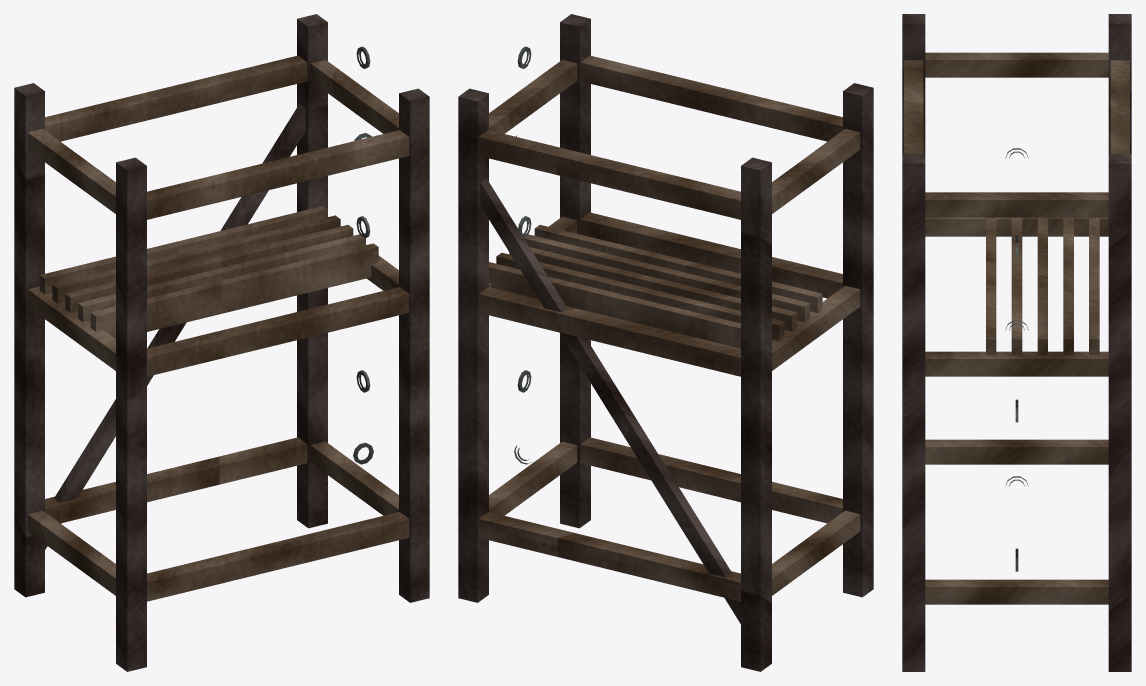
File: 0427_scaffolding_02.glb
The picture shows the model from 3 angles, left to right: view 1: azimuth 30°, elevation 25°; view 2: azimuth 150°, elevation 25°; view 3: azimuth 270°, elevation 25°; orthographic projection.
Visible parts, largest first — view 1: wood, wood_dark, iron; view 2: wood, wood_dark, iron; view 3: wood, wood_dark, iron.
Boxes of the visible parts, x1,y1,x2,y2 form: wood: (27,55,409,601); wood_dark: (14,14,429,671); iron: (353,46,373,464); wood: (478,55,860,601); wood_dark: (458,14,873,671); iron: (514,46,531,464); wood: (904,52,1129,604); wood_dark: (902,14,1131,671); iron: (1005,148,1028,571).
Size of the model in its own units: 2.01 by 3.24 by 1.3.
3 materials, 3 textured.
